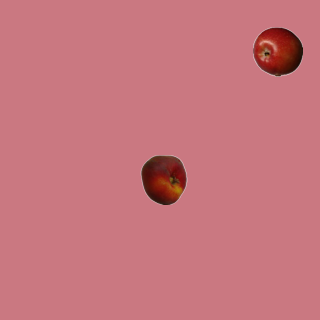Apple Braeburn: (252, 26, 302, 76)
Nectarine Flat: (138, 154, 188, 204)
